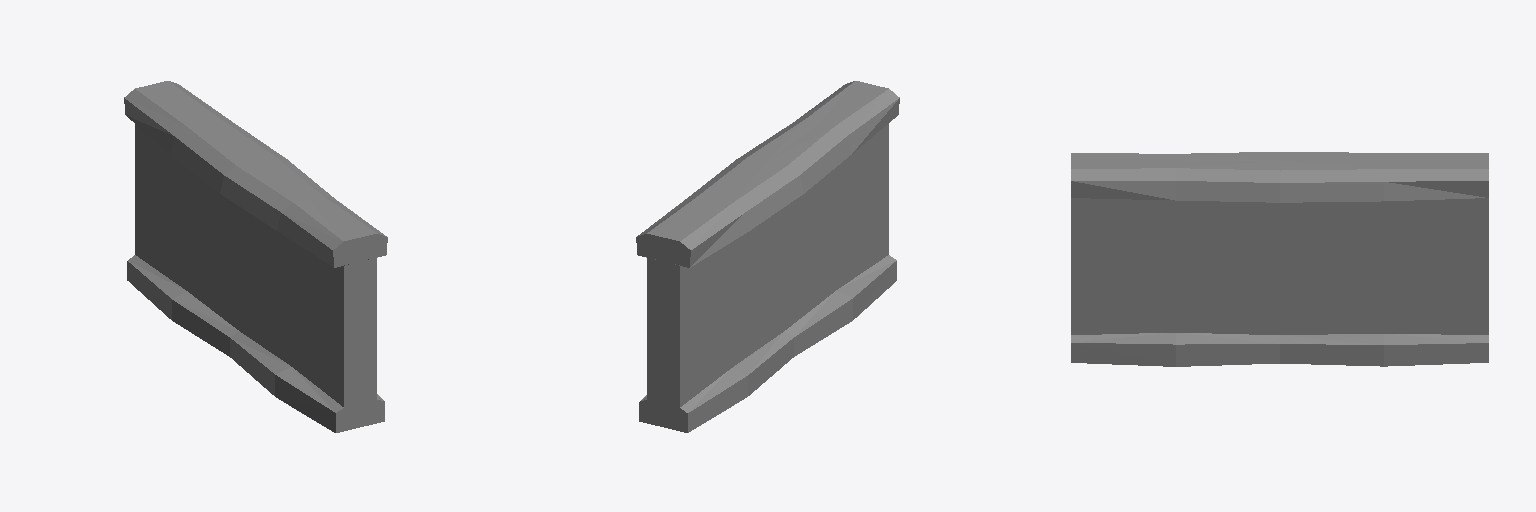
File: WallZ.obj
3 views of the same model, side by side, from view 1: azimuth 30°, elevation 25°; view 2: azimuth 150°, elevation 25°; view 3: azimuth 270°, elevation 25° (orthographic).
Parts seen in each view (by area): view 1: TEMP.002; view 2: TEMP.002; view 3: TEMP.002.
Part boxes in pixels (bbox=[...]): TEMP.002: bbox=[124, 81, 387, 432]; TEMP.002: bbox=[636, 81, 899, 432]; TEMP.002: bbox=[1071, 152, 1488, 366].
Bounding box in the file's own units: 12.68 × 32.11 × 64.